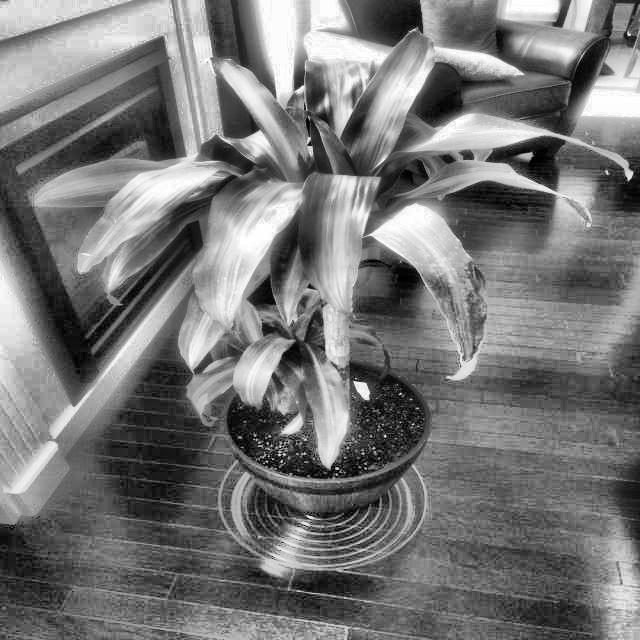plants: (82, 38, 568, 574)
